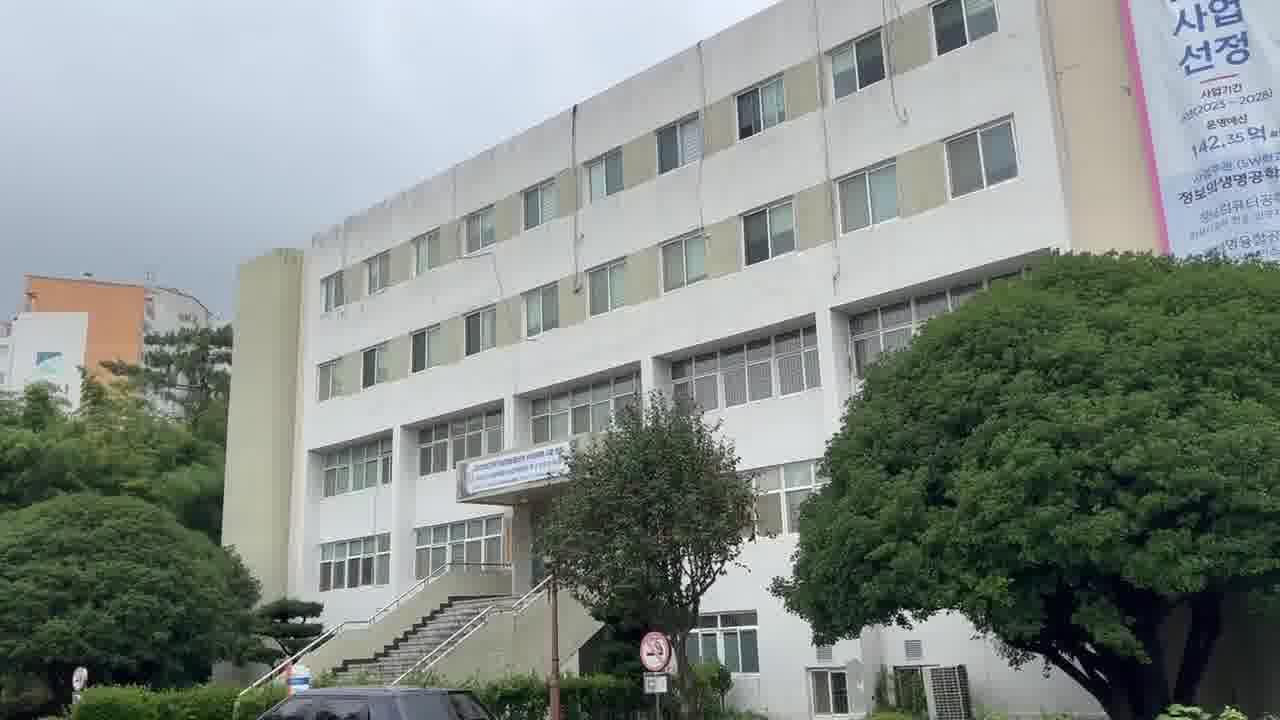building: (219, 71, 843, 384)
